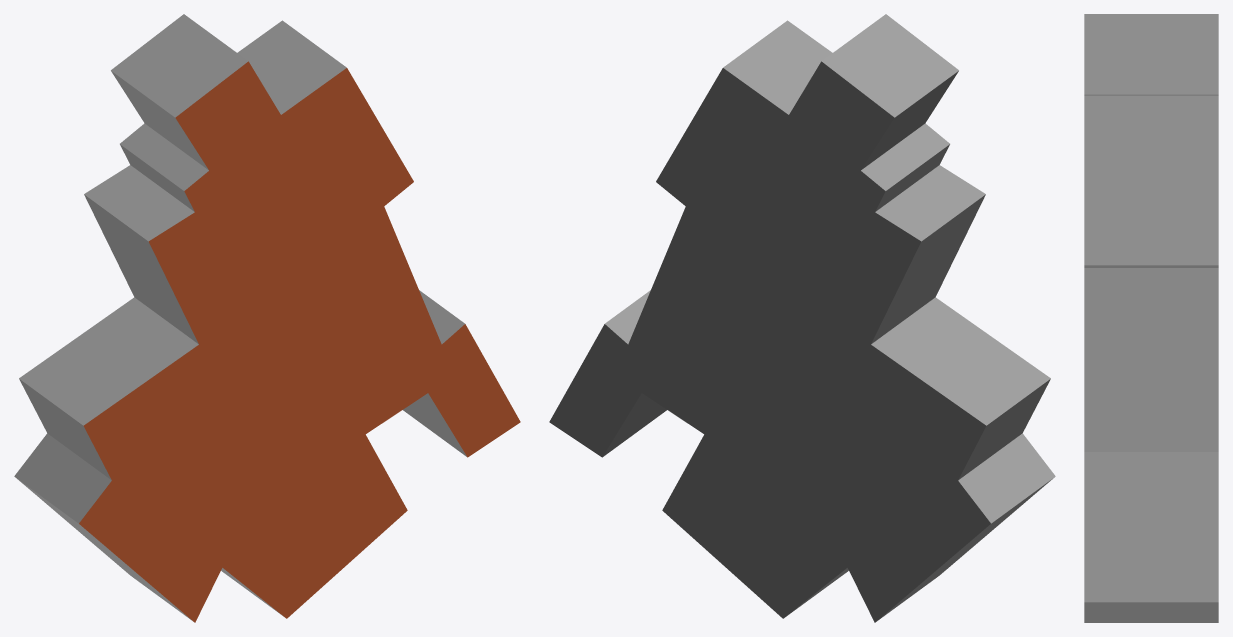
File: construction_2909_assumed_A_Casa_h6m.obj
3 renders of one model, left to right at view 1: azimuth 30°, elevation 25°; view 2: azimuth 150°, elevation 25°; view 3: azimuth 270°, elevation 25°, orthographic. The views are drawn at different scales.
Visible parts, largest first — view 1: construction_2909_assumed_A_Casa; view 2: construction_2909_assumed_A_Casa; view 3: construction_2909_assumed_A_Casa.
Part boxes in pixels (x1,y1,x2,y2): construction_2909_assumed_A_Casa: [14, 14, 520, 622]; construction_2909_assumed_A_Casa: [549, 14, 1055, 622]; construction_2909_assumed_A_Casa: [1084, 14, 1218, 622].
Size of the model in its own units: 23.69 by 29.04 by 6.
